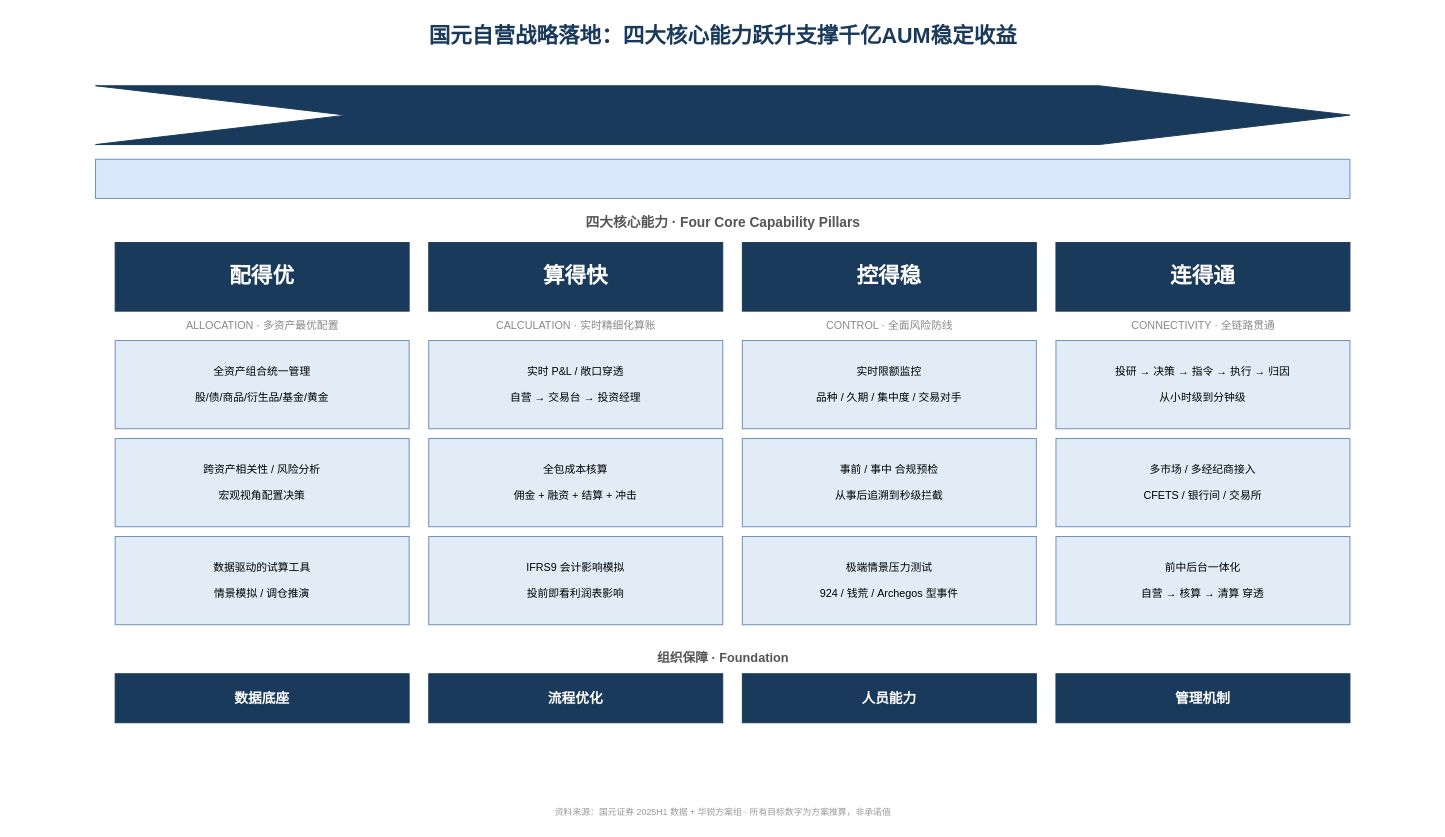
The diagram is 1445 pixels wide and 837 high, and some of its shapes have lost their labels. Each missing label, with the centre of its shape:
"发展目标：低波动 6% 年化收益 × 千亿 AUM × 股 / 债 / 商品 / 衍生品 / 黄金 全资产覆盖" belongs at pixel 722 178.
"愿景 | 金融科技赋能，打造稳定收益 + 全资产覆盖 + 精细化管理的一流自营业务" belongs at pixel 722 115.
